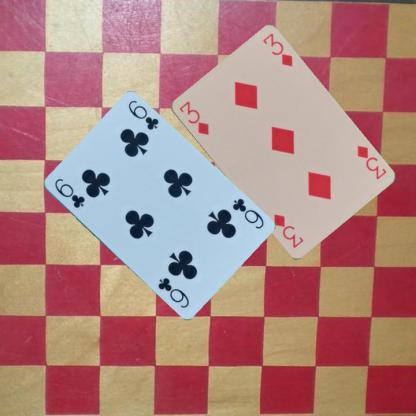3d: (176, 98, 210, 136), (354, 143, 388, 181)
6c: (230, 196, 266, 230), (52, 175, 86, 210)
